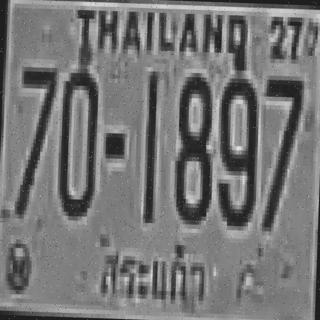N00: (56, 64, 97, 216)
N01: (142, 69, 158, 221)
N07: (260, 71, 302, 228), (13, 62, 56, 215)
N08: (172, 68, 212, 220)
N09: (215, 74, 258, 226)
P55: (90, 235, 213, 309)
